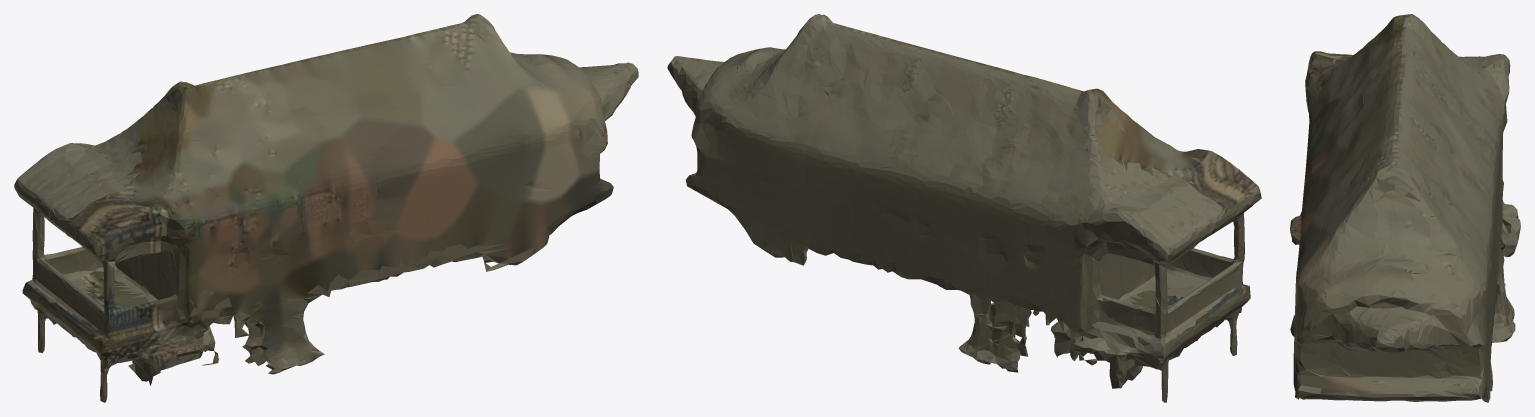
3 renders of one model, left to right at view 1: azimuth 30°, elevation 25°; view 2: azimuth 150°, elevation 25°; view 3: azimuth 270°, elevation 25°, orthographic. The views are drawn at different scales.
Parts seen in each view (by area): view 1: painted, wall, roof; view 2: wall, roof, painted; view 3: painted, roof, wall.
Part boxes in pixels (left/top/right/bottom): painted: left=29, top=14, right=638, bottom=382; wall: left=14, top=91, right=613, bottom=402; roof: left=17, top=16, right=636, bottom=372; wall: left=667, top=25, right=1261, bottom=402; roof: left=668, top=16, right=1260, bottom=369; painted: left=689, top=14, right=1257, bottom=339; painted: left=1290, top=14, right=1431, bottom=397; roof: left=1290, top=14, right=1520, bottom=401; wall: left=1291, top=36, right=1520, bottom=402.
Size of the model in its own units: 11.44 by 5.17 by 3.67.
3 materials, 3 textured.
